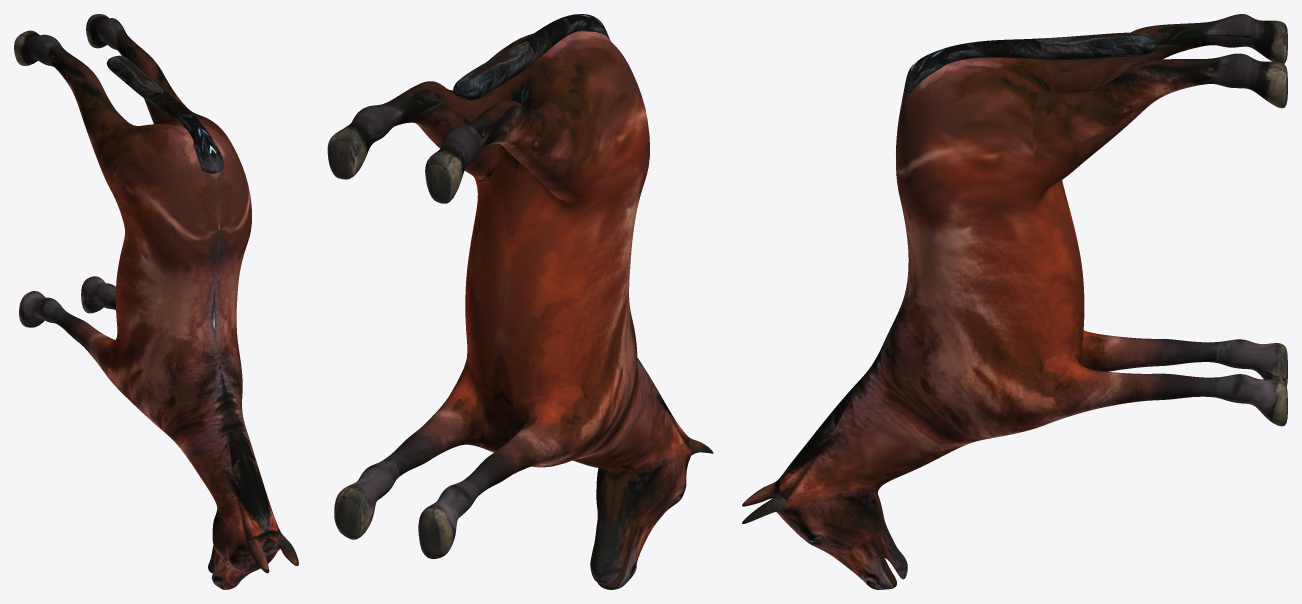
3 views of the same model, side by side, from view 1: azimuth 30°, elevation 25°; view 2: azimuth 150°, elevation 25°; view 3: azimuth 270°, elevation 25° (orthographic). The views are drawn at different scales.
Parts seen in each view (by area): view 1: node_3fe5e848_2633_4f50_a9aa_8fd810cf2c67_mesh0; view 2: node_3fe5e848_2633_4f50_a9aa_8fd810cf2c67_mesh0; view 3: node_3fe5e848_2633_4f50_a9aa_8fd810cf2c67_mesh0.
Boxes of the visible parts, <box> form: node_3fe5e848_2633_4f50_a9aa_8fd810cf2c67_mesh0: <box>14,14,298,589</box>; node_3fe5e848_2633_4f50_a9aa_8fd810cf2c67_mesh0: <box>327,14,713,589</box>; node_3fe5e848_2633_4f50_a9aa_8fd810cf2c67_mesh0: <box>742,14,1287,589</box>.
Bounding box in the file's own units: 427 × 1791 × 1599.
1 material, 1 textured.
